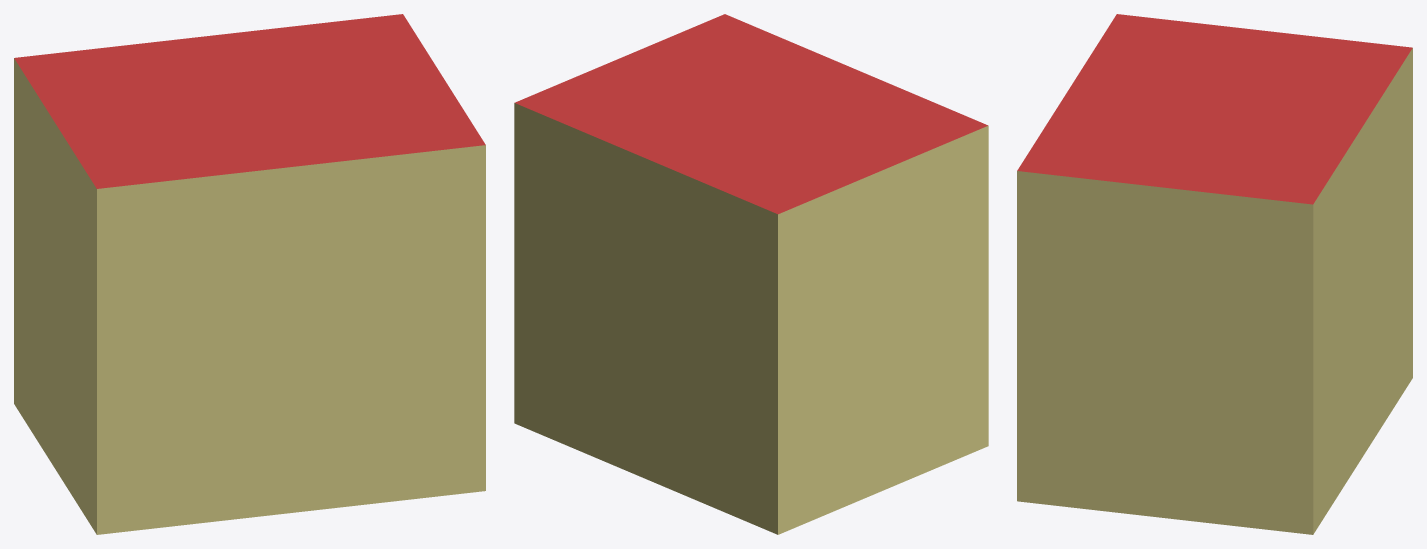
3 views of the same model, side by side, from view 1: azimuth 30°, elevation 25°; view 2: azimuth 150°, elevation 25°; view 3: azimuth 270°, elevation 25° (orthographic). The views are drawn at different scales.
Size of the model in its own units: 6.34 by 5.56 by 5.12.
